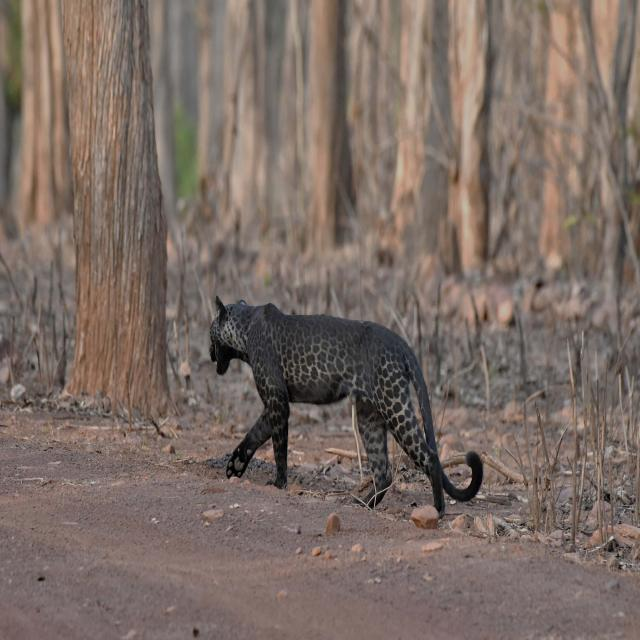Leopard: (203, 300, 485, 528)
